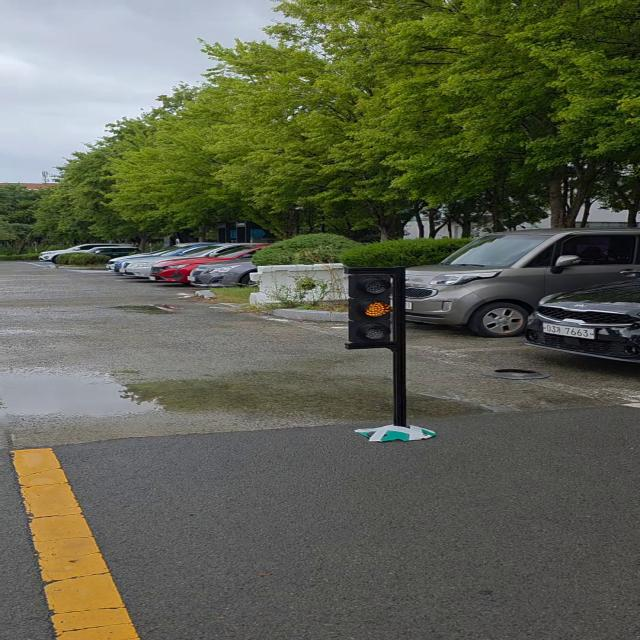yellow: (351, 270, 399, 345)
